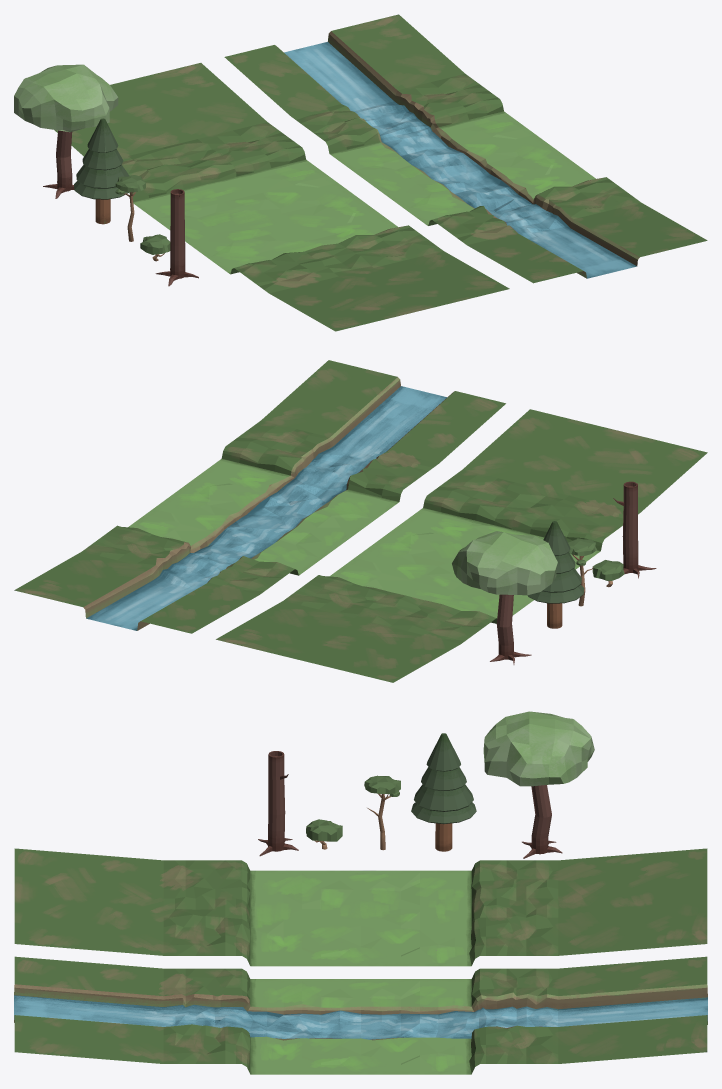
The picture shows the model from 3 angles, top to bottom: view 1: azimuth 30°, elevation 25°; view 2: azimuth 150°, elevation 25°; view 3: azimuth 270°, elevation 25°; orthographic projection. The views are drawn at different scales.
Parts seen in each view (by area): view 1: River, Ground, Tree, Tree2, Log, Tree3, Bush; view 2: River, Ground, Tree, Tree2, Log, Tree3, Bush; view 3: Ground, River, Tree, Tree2, Log, Tree3, Bush.
Part boxes in pixels (bbox=[...]): River: bbox=[224, 14, 707, 283]; Ground: bbox=[54, 63, 509, 331]; Tree: bbox=[14, 64, 118, 198]; Tree2: bbox=[74, 118, 129, 224]; Log: bbox=[155, 189, 198, 286]; Tree3: bbox=[115, 175, 145, 241]; Bush: bbox=[140, 234, 170, 261]; River: bbox=[14, 360, 505, 633]; Ground: bbox=[216, 409, 707, 682]; Tree: bbox=[452, 531, 557, 664]; Tree2: bbox=[527, 521, 584, 628]; Log: bbox=[613, 481, 656, 578]; Tree3: bbox=[568, 538, 596, 606]; Bush: bbox=[592, 560, 624, 587]; Ground: bbox=[14, 848, 707, 966]; River: bbox=[14, 956, 707, 1074]; Tree: bbox=[483, 711, 594, 858]; Tree2: bbox=[411, 733, 476, 851]; Log: bbox=[258, 751, 298, 856]; Tree3: bbox=[364, 775, 400, 850]; Bush: bbox=[306, 819, 342, 849].
Bounding box in the file's own units: 390 × 102 × 460.
1 material, 1 textured.
